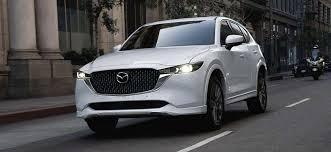mazda: (111, 70, 134, 86)
